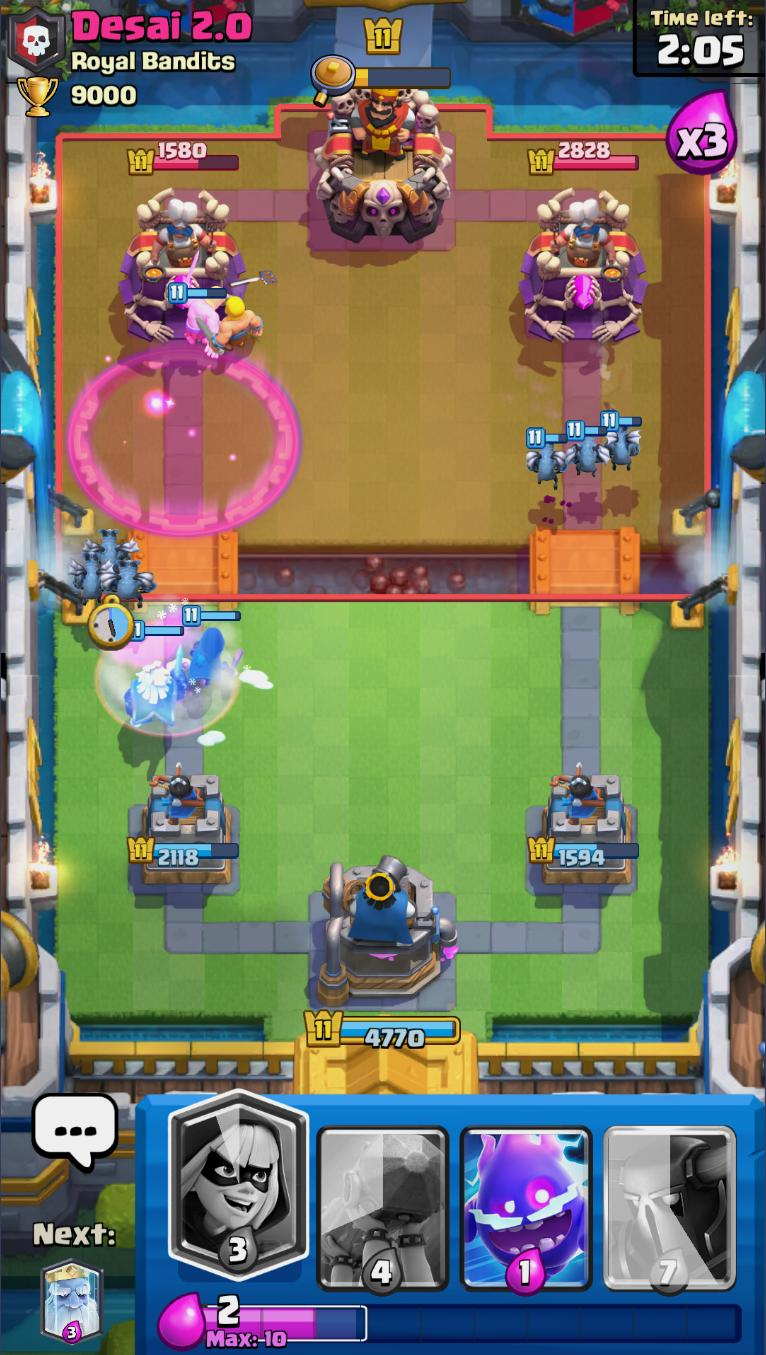BanditDeck: (167, 1097, 313, 1290)
BattleRamDeck: (310, 1100, 456, 1296)
Chef: (147, 199, 220, 270), (549, 201, 620, 269)
ElectroSpiritDeck: (453, 1100, 599, 1300)
Elixir: (202, 1296, 742, 1349)
EnemyTower: (119, 189, 249, 344), (520, 189, 649, 343)
KingTower: (314, 84, 456, 244)
MyBandit: (181, 606, 239, 684)
MyBarbarian: (200, 294, 266, 359), (171, 281, 230, 346)
MyKingHP: (301, 1004, 463, 1053)
MyKingTower: (311, 853, 461, 1009)
MyMinion: (600, 409, 644, 471), (526, 427, 569, 489), (101, 557, 157, 604), (564, 419, 607, 480), (67, 549, 114, 604), (86, 521, 139, 569)
MyPrincessTower: (127, 774, 240, 889), (529, 774, 641, 890)
MyPrincessTowerHP: (126, 833, 241, 869), (529, 833, 641, 867)
MyRoyaleGhost: (121, 621, 190, 731)
PekkaDeck: (599, 1100, 744, 1297)
Rage: (67, 346, 303, 534)
RoyaleGhostNext: (41, 1261, 104, 1343)
TowerPrincessHP: (529, 141, 641, 177), (129, 141, 241, 174)
